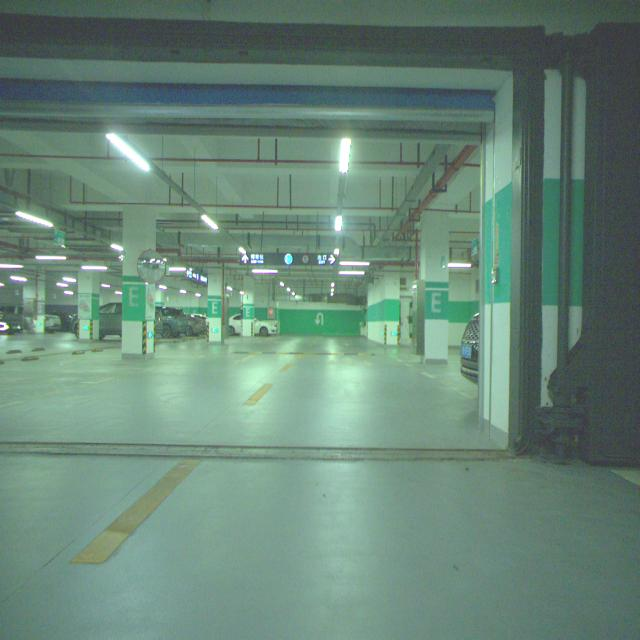pillar: (121, 208, 156, 358), (420, 211, 449, 364), (78, 270, 100, 341)
